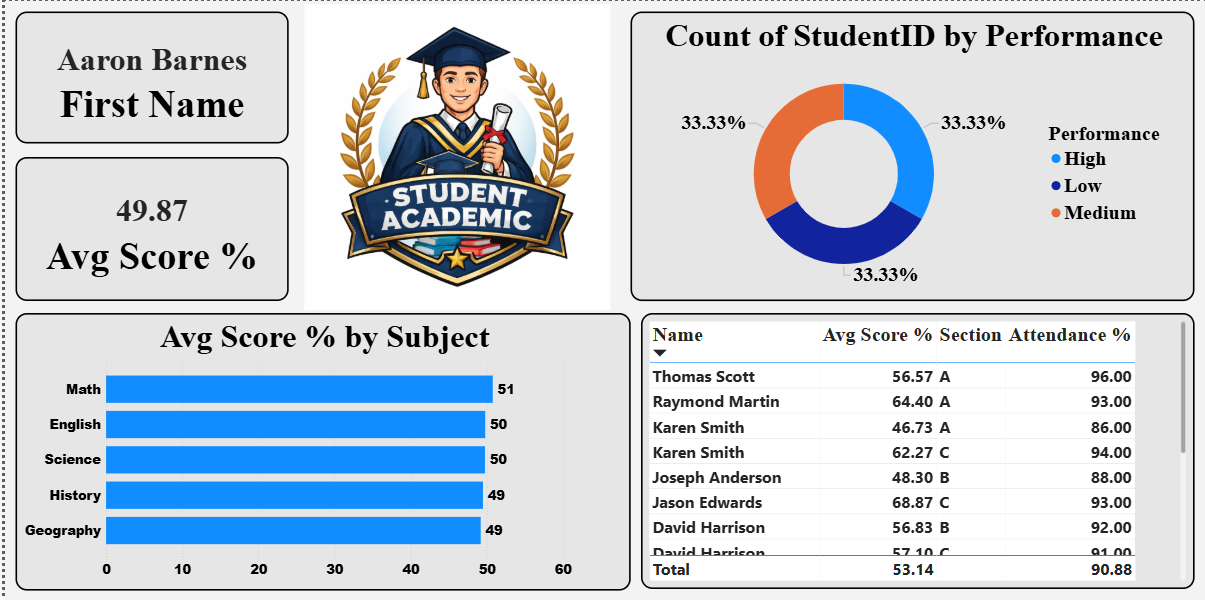

The dashboard page shown, as its layout file describes it:
{"tool":"powerbi","page":{"name":"Acedamic","canvas":[2000,1000],"ordinal":4},"visuals":[{"type":"donutChart","fields":{"Category":["Scores - Scores csv.Performance Category"],"Y":["CountNonNull(Students - Students csv.StudentID)"]},"box":[1042.5,17.5,940,482.5],"z":0},{"type":"card","fields":{"Values":["Min(Students - Students csv.Name)"]},"box":[17.5,17.5,455,220],"z":1000},{"type":"card","fields":{"Values":["Measure Table.Avg Score %"]},"box":[17.5,260,455,240],"z":2000},{"type":"image","box":[365,0,777.5,520],"z":3000},{"type":"barChart","fields":{"Category":["Scores - Scores csv.Subject"],"Y":["Measure Table.Avg Score %"]},"box":[17.5,520,1025,462.5],"z":4000},{"type":"tableEx","fields":{"Values":["Students - Students csv.Name","Measure Table.avarage score","Students - Students csv.Section","Measure Table.Attendance %"]},"box":[1060,520,922.5,460],"z":5000}]}

Visuals, with their boxes in screenshot pixels (x1, y1, x2, y2), scaled from the page's 2000x1000 canvas onto the 1205x600 screenshot:
donutChart - Scores - Scores csv.Performance Category x CountNonNull(Students - Students csv.StudentID): {"left": 628, "top": 10, "right": 1194, "bottom": 300}
card - Min(Students - Students csv.Name): {"left": 11, "top": 10, "right": 285, "bottom": 142}
card - Measure Table.Avg Score %: {"left": 11, "top": 156, "right": 285, "bottom": 300}
image: {"left": 220, "top": 0, "right": 688, "bottom": 312}
barChart - Scores - Scores csv.Subject x Measure Table.Avg Score %: {"left": 11, "top": 312, "right": 628, "bottom": 590}
tableEx - Students - Students csv.Name x Measure Table.avarage score: {"left": 639, "top": 312, "right": 1194, "bottom": 588}
